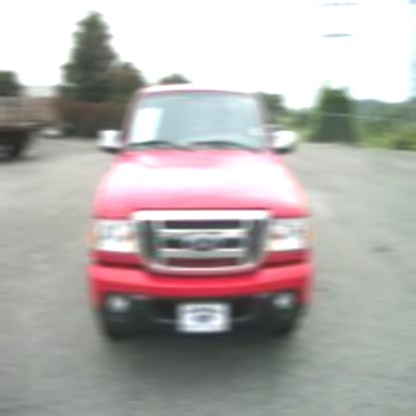Vehicle: (90, 86, 313, 343)
